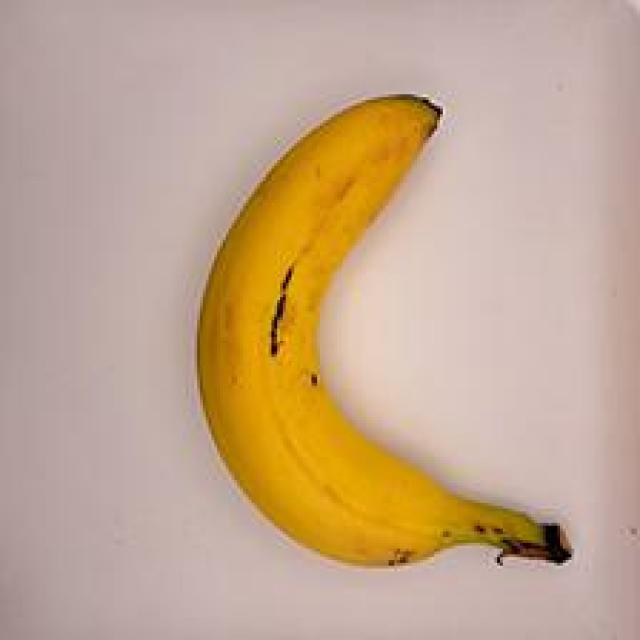ripe: (158, 64, 598, 589)
